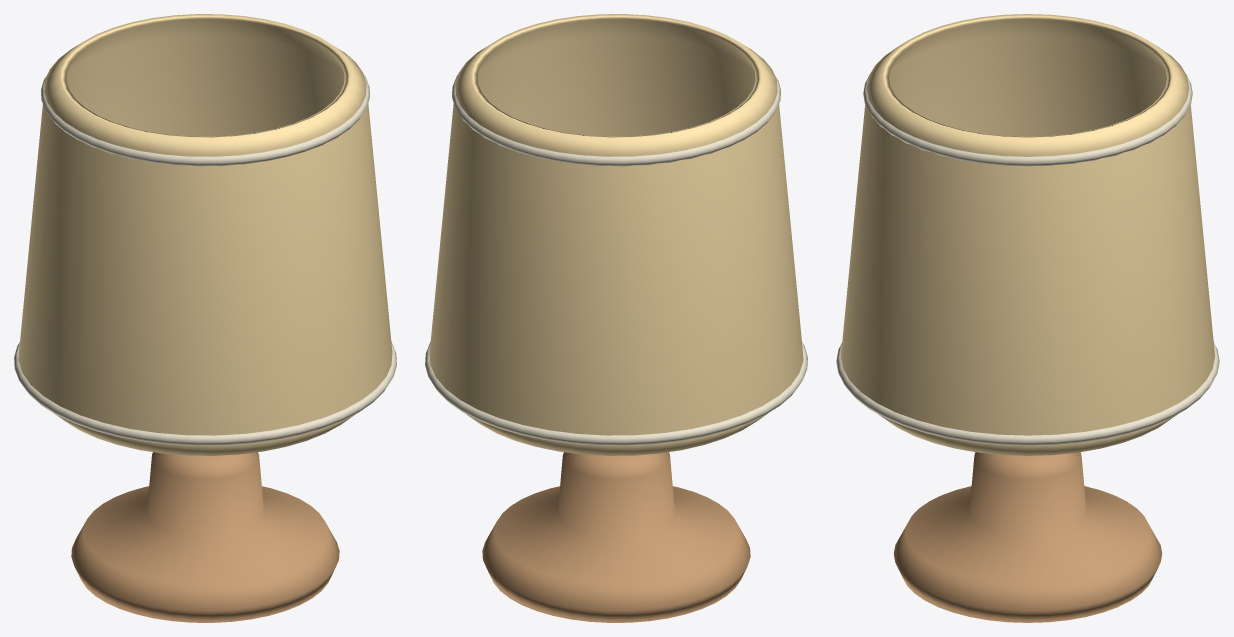
The model's file is family-shelf-lamp-v1.glb.
The picture shows the model from 3 angles, left to right: view 1: azimuth 30°, elevation 25°; view 2: azimuth 150°, elevation 25°; view 3: azimuth 270°, elevation 25°; orthographic projection.
Parts seen in each view (by area): view 1: Linen shade, Turned maple foot, Bound shade edge (×2); view 2: Linen shade, Turned maple foot, Bound shade edge (×2); view 3: Linen shade, Turned maple foot, Bound shade edge (×2).
Boxes of the visible parts, bbox=[...] form: Linen shade: bbox=[18, 14, 392, 455]; Turned maple foot: bbox=[71, 452, 339, 622]; Bound shade edge (×2): bbox=[14, 74, 396, 445]; Linen shade: bbox=[429, 14, 803, 455]; Turned maple foot: bbox=[482, 452, 750, 622]; Bound shade edge (×2): bbox=[425, 74, 807, 445]; Linen shade: bbox=[841, 14, 1214, 455]; Turned maple foot: bbox=[893, 452, 1162, 622]; Bound shade edge (×2): bbox=[836, 73, 1219, 445].
Bounding box in the file's own units: 0.157 × 0.223 × 0.157.
